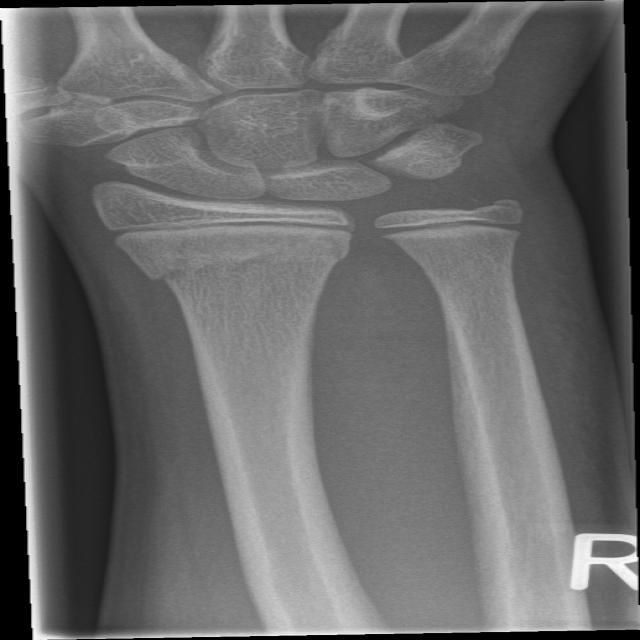radius fracture: (117, 235, 259, 355)
